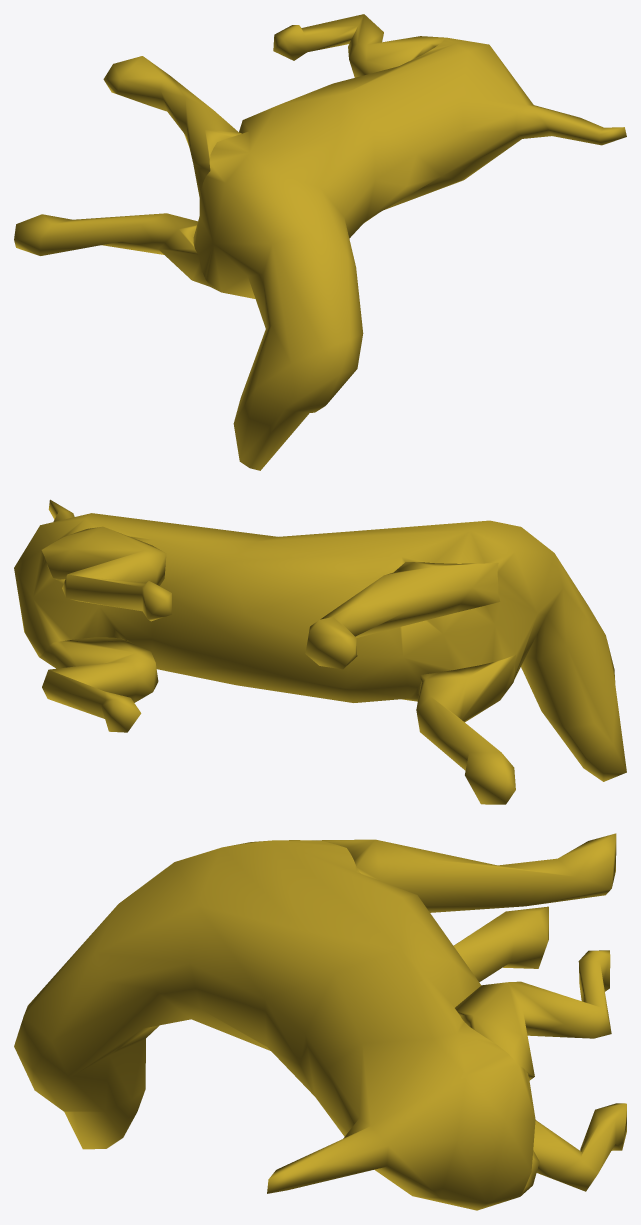
File: MeshDogStatue_0.obj
3 views of the same model, one above another, from view 1: azimuth 30°, elevation 25°; view 2: azimuth 150°, elevation 25°; view 3: azimuth 270°, elevation 25° (orthographic). The views are drawn at different scales.
Visible parts, largest first — view 1: DogStatue; view 2: DogStatue; view 3: DogStatue.
Part boxes in pixels (x1,y1,x2,y2): DogStatue: (14,14,626,470); DogStatue: (14,499,626,804); DogStatue: (14,833,626,1210).
Bounding box in the file's own units: 0.2676 × 0.1291 × 0.2015.
